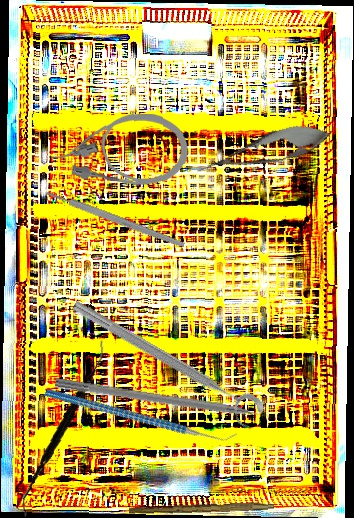Cannula: (49, 110, 190, 187)
Chopper: (42, 329, 240, 498)
Fixation Ring: (62, 295, 268, 433)
Micro Scissor: (191, 114, 336, 188)
Pusher: (54, 377, 284, 426)
Scalpel Handle: (45, 188, 186, 250), (128, 499, 275, 517)
Spatula Surgical: (9, 339, 119, 518)
